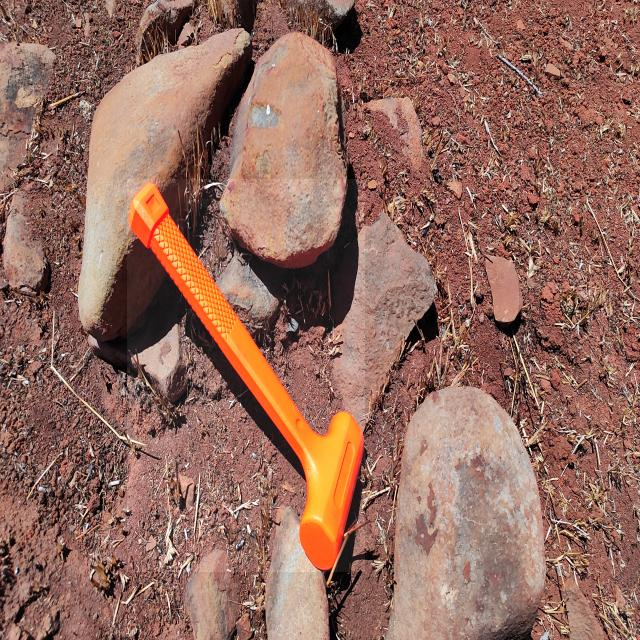Orange_hammer: (127, 179, 365, 572)
